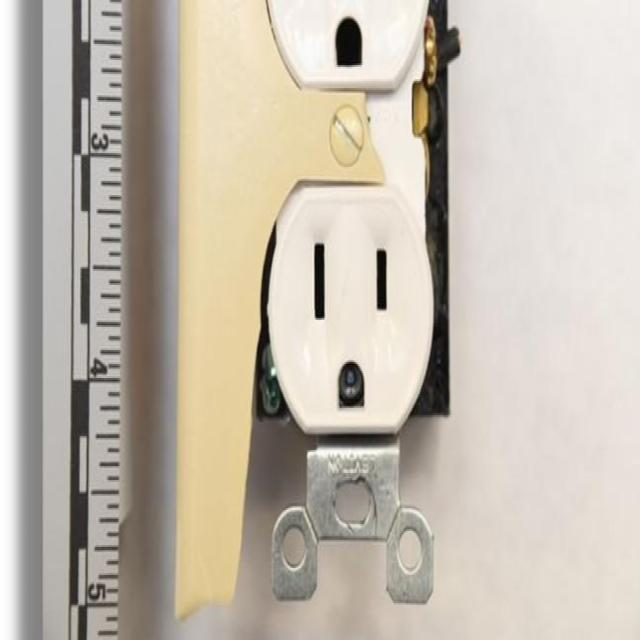hidden camera: (342, 364, 359, 392)
